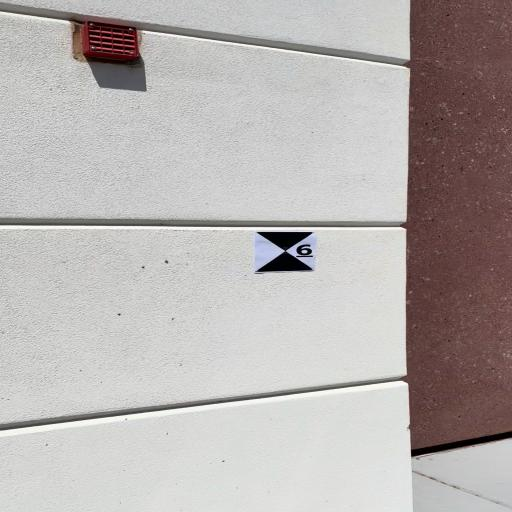target6: (253, 231, 316, 274)
